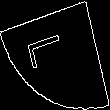L_E: (32, 33, 78, 77)
